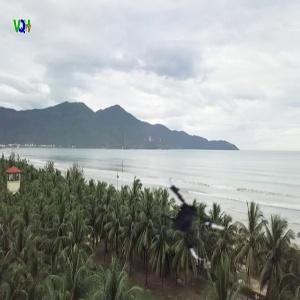drone: (149, 173, 242, 266)
